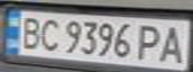3: (78, 19, 100, 56)
6: (112, 20, 139, 60)
9: (93, 19, 118, 58), (60, 18, 84, 55)
A: (157, 24, 190, 64)
B: (15, 14, 45, 50)
C: (36, 16, 63, 52)
P: (136, 23, 166, 62)
